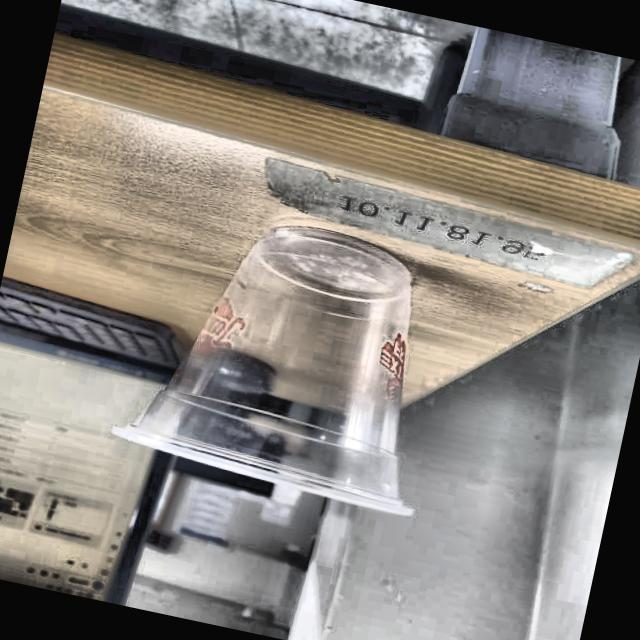plastic cup: (104, 195, 469, 520)
